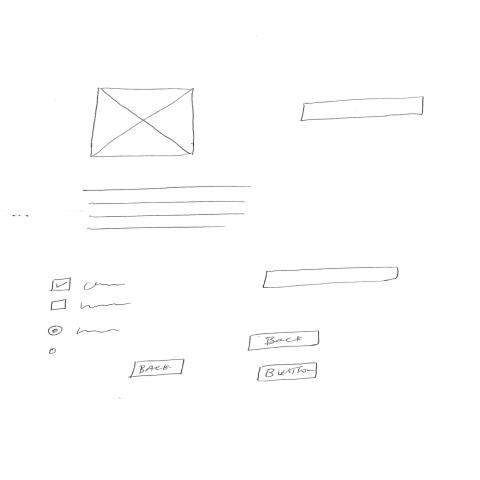Button: (249, 330, 321, 352), (256, 363, 319, 383), (128, 359, 186, 379)
Check Box: (50, 277, 126, 293)
Image: (89, 87, 198, 158)
Paragraph: (83, 185, 252, 230)
Radio Button: (48, 325, 122, 338)
Textbox: (262, 266, 400, 290), (299, 97, 425, 123)
